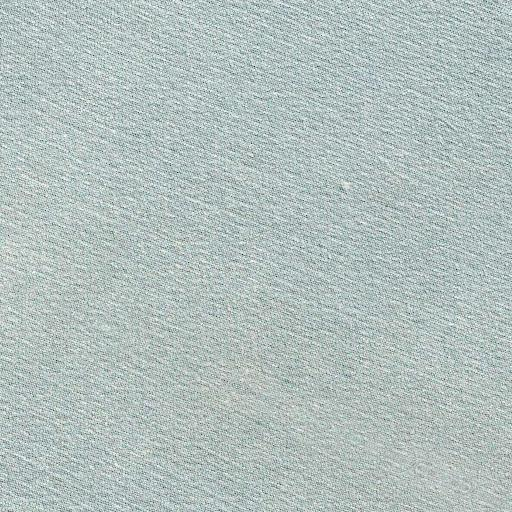knot: (329, 167, 362, 211)
